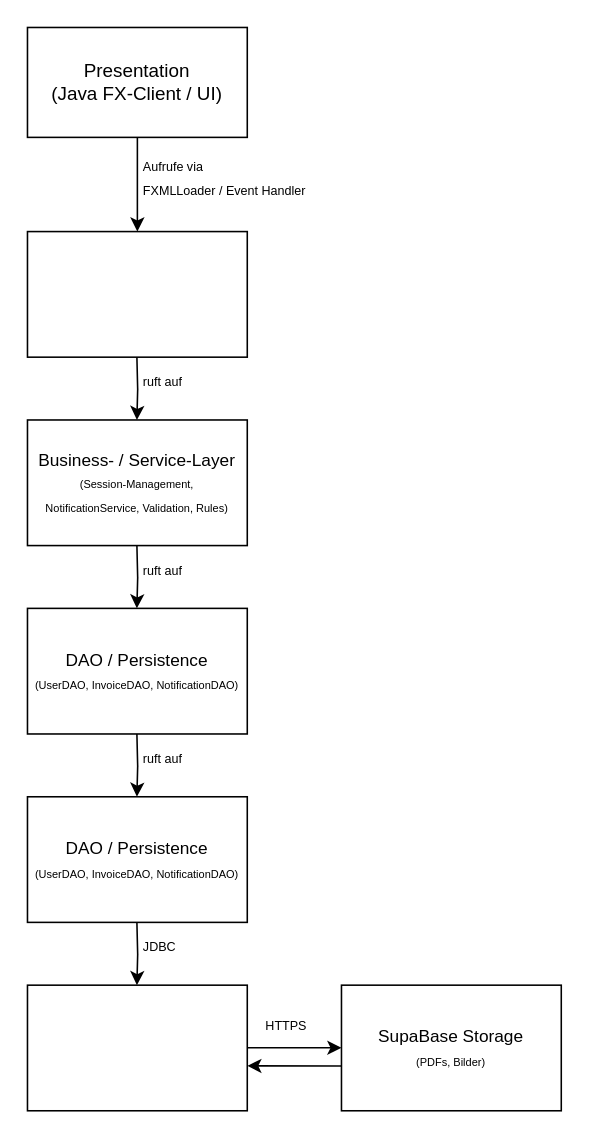
This 589x1138 diagram has some shape labels left out. The shapes that lost their labels are listed below. From the top down, each one's centre as x and y in pixels, then its label:
At pixel 136 293: "Controller (LoginController, Dashboardcontroller, Notificationcontroller etc.)".
At pixel 136 1047: "PostgreSQL- Datenbank".
